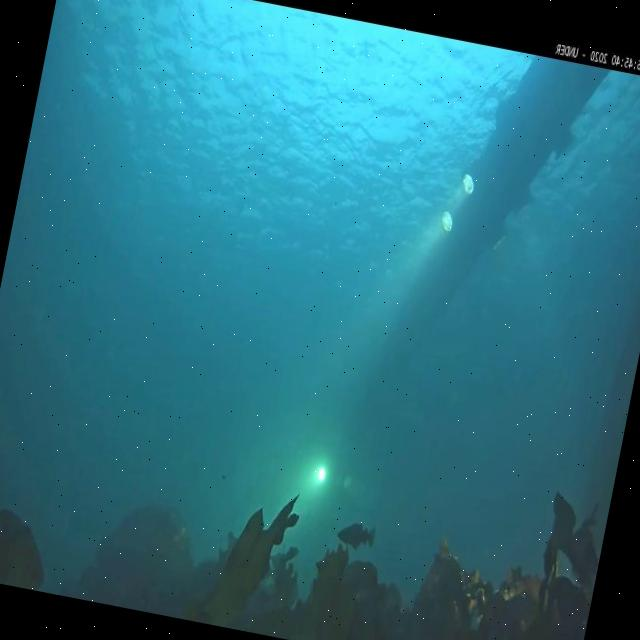fish: (335, 517, 377, 551)
